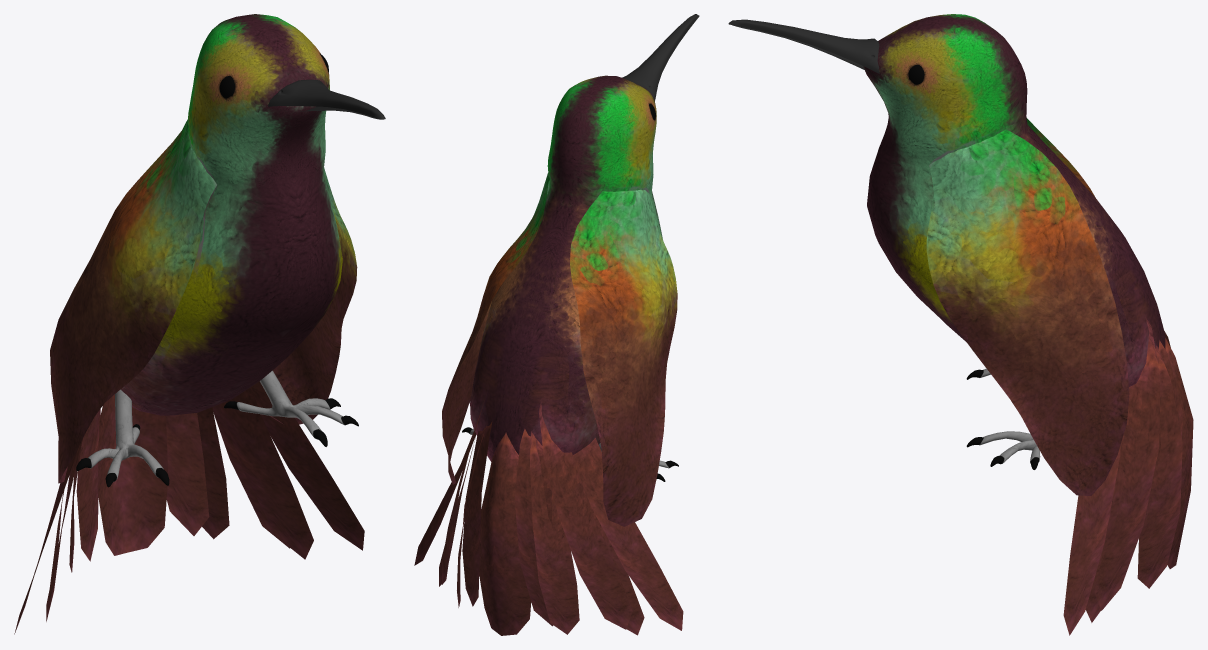
File: Colibrí berilo.glb
3 renders of one model, left to right at view 1: azimuth 30°, elevation 25°; view 2: azimuth 150°, elevation 25°; view 3: azimuth 270°, elevation 25°, orthographic. The views are drawn at different scales.
Visible parts, largest first — view 1: Saucerottia beryllina; view 2: Saucerottia beryllina; view 3: Saucerottia beryllina.
Boxes of the visible parts, <box> form: Saucerottia beryllina: <box>14,14,385,634</box>; Saucerottia beryllina: <box>414,14,699,635</box>; Saucerottia beryllina: <box>728,14,1193,635</box>.
Bounding box in the file's own units: 5.08 × 8.74 × 6.73.
Materials: 2 (2 with a texture image).
